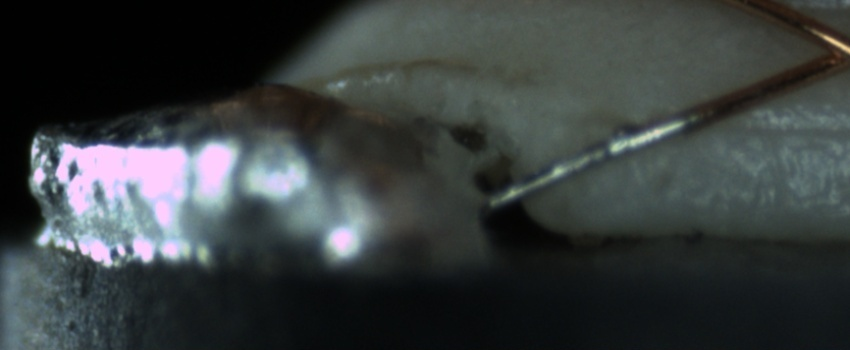CL: (796, 16, 850, 79)
DL: (689, 97, 844, 159)
TS: (484, 106, 701, 205)
